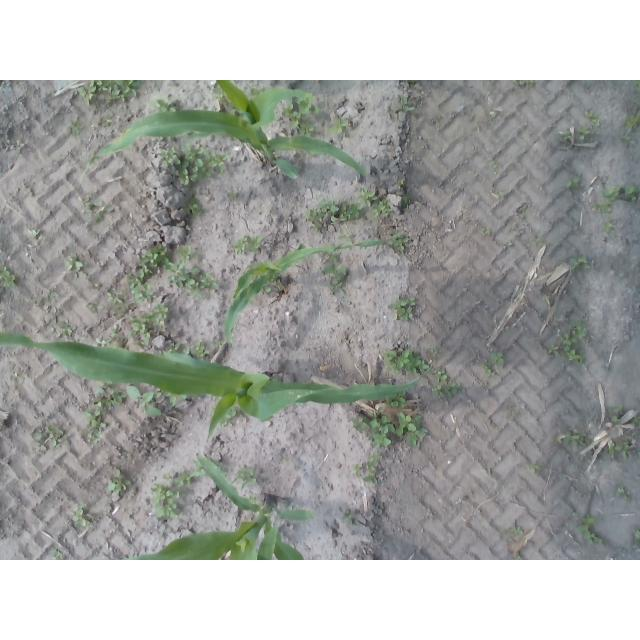Maize: (1, 332, 436, 440), (80, 80, 368, 180), (123, 454, 316, 560), (224, 232, 401, 341)
Weeds: (126, 243, 222, 306), (157, 142, 235, 187), (147, 467, 205, 525), (84, 382, 127, 445), (543, 318, 589, 364), (304, 196, 364, 231), (350, 406, 396, 450), (131, 302, 170, 353), (76, 80, 141, 108), (286, 93, 323, 136), (32, 421, 68, 459), (395, 411, 430, 448), (79, 194, 118, 227), (127, 384, 164, 418), (381, 349, 429, 375), (36, 313, 76, 340), (431, 368, 462, 401), (353, 452, 384, 485), (35, 285, 66, 315), (552, 429, 593, 451), (105, 466, 131, 500), (578, 511, 602, 545), (324, 259, 348, 293), (69, 502, 94, 534), (97, 324, 128, 349), (228, 234, 262, 256), (151, 89, 179, 113), (67, 254, 90, 283), (389, 298, 415, 322), (483, 351, 506, 378), (234, 466, 258, 490), (328, 114, 352, 138), (390, 231, 415, 254), (0, 264, 18, 289), (370, 199, 393, 218), (166, 392, 191, 409), (384, 394, 410, 410), (167, 340, 190, 356), (614, 485, 633, 504), (601, 185, 621, 203), (503, 402, 521, 422), (357, 187, 377, 205), (69, 116, 87, 136), (569, 257, 592, 272), (106, 287, 125, 305), (399, 97, 417, 116), (86, 299, 106, 316), (186, 197, 203, 216), (194, 340, 211, 359), (212, 86, 228, 106), (226, 406, 242, 425), (584, 109, 600, 127), (591, 202, 613, 215), (499, 525, 521, 538), (609, 405, 624, 423), (337, 230, 355, 245), (625, 113, 640, 131), (616, 440, 631, 457), (623, 185, 637, 203), (429, 115, 443, 130), (342, 509, 355, 525), (48, 548, 64, 561), (603, 218, 615, 235), (632, 526, 640, 551), (565, 175, 579, 189), (577, 128, 592, 141), (273, 279, 287, 292), (101, 116, 115, 129), (515, 203, 528, 216), (401, 193, 413, 207), (28, 229, 43, 240), (12, 140, 24, 153), (529, 461, 540, 475), (517, 81, 539, 88), (113, 305, 128, 315), (212, 339, 227, 349), (93, 281, 105, 293), (250, 88, 268, 96), (231, 186, 241, 200), (605, 443, 615, 454), (431, 348, 442, 358), (482, 226, 493, 235), (561, 132, 572, 140), (395, 180, 406, 188), (534, 234, 542, 244), (488, 110, 498, 118), (633, 417, 640, 428), (264, 285, 273, 293), (635, 80, 640, 92), (620, 136, 632, 141), (635, 94, 640, 105), (490, 161, 499, 167), (543, 294, 550, 300), (499, 190, 506, 196), (404, 81, 417, 84)
